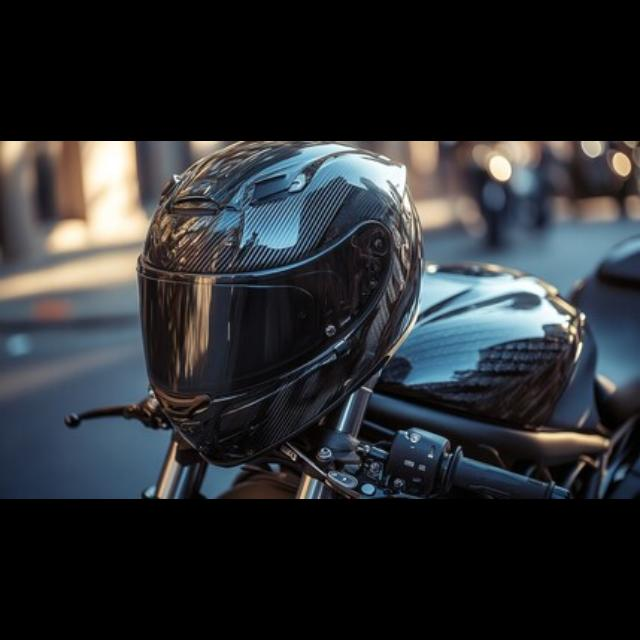motorcycle-helmets: (125, 143, 433, 467)
